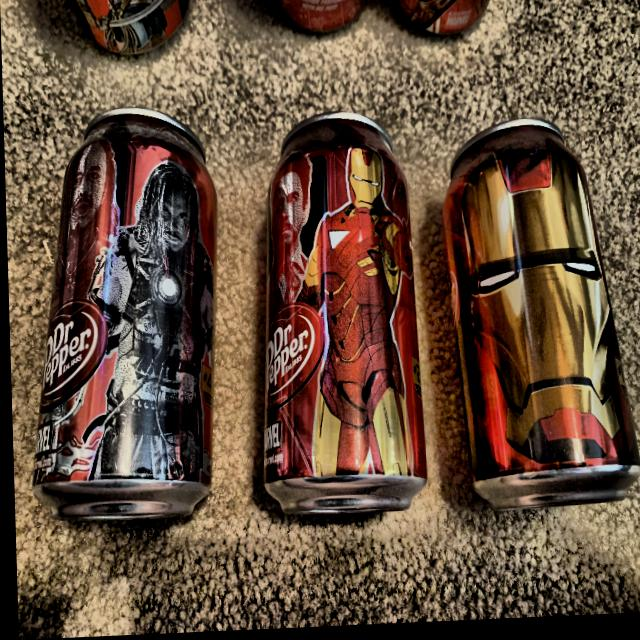can: (21, 97, 225, 548), (436, 117, 640, 536), (247, 108, 431, 531), (70, 0, 203, 71), (385, 0, 513, 54), (258, 0, 381, 44)
